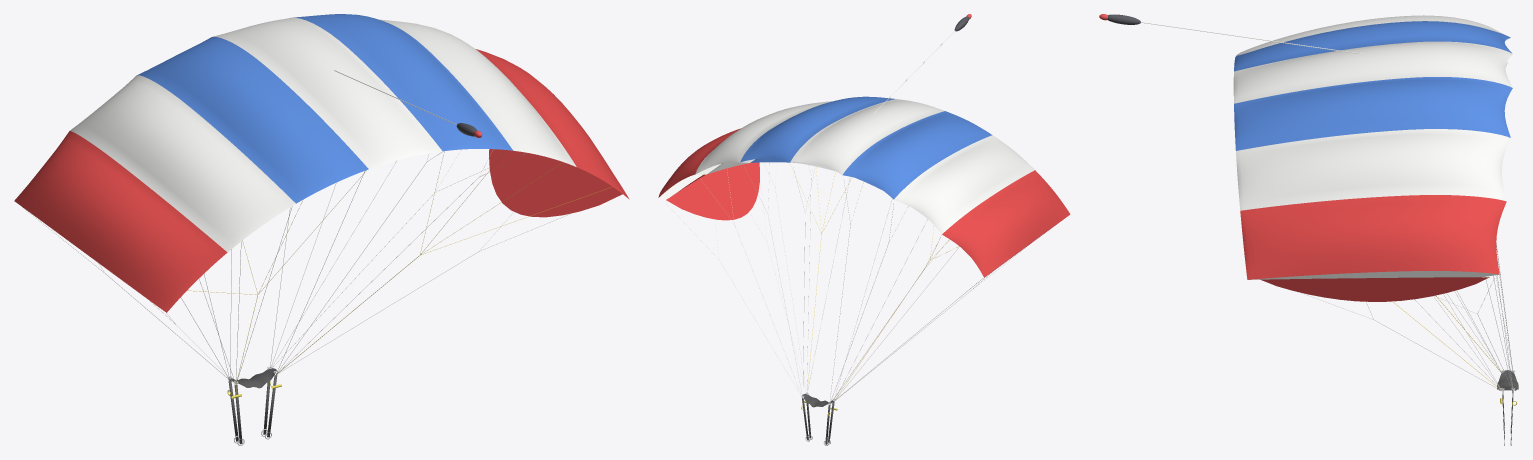
The model's file is PD_Spectre_150.glb.
The picture shows the model from 3 angles, left to right: view 1: azimuth 30°, elevation 25°; view 2: azimuth 150°, elevation 25°; view 3: azimuth 270°, elevation 25°; orthographic projection. The views are drawn at different scales.
Parts seen in each view (by area): view 1: TopSkin, Stabilizers, Lines, SteeringLines, Risers; view 2: TopSkin, Stabilizers, Lines, BottomSkin, Risers, Ribs, SteeringLines; view 3: TopSkin, Stabilizers, Lines, Ribs, PilotChute.
Part boxes in pixels (left/top/right/bottom): TopSkin: left=14, top=14, right=629, bottom=312; Stabilizers: left=47, top=149, right=622, bottom=310; Lines: left=23, top=149, right=569, bottom=384; SteeringLines: left=188, top=150, right=611, bottom=394; Risers: left=227, top=368, right=281, bottom=445; TopSkin: left=658, top=96, right=1070, bottom=277; Stabilizers: left=666, top=162, right=1044, bottom=278; Lines: left=666, top=162, right=1029, bottom=404; BottomSkin: left=678, top=158, right=968, bottom=254; Risers: left=801, top=394, right=837, bottom=445; Ribs: left=659, top=158, right=799, bottom=197; SteeringLines: left=790, top=164, right=958, bottom=399; TopSkin: left=1233, top=15, right=1512, bottom=279; Stabilizers: left=1260, top=277, right=1489, bottom=301; Lines: left=1301, top=62, right=1512, bottom=390; Ribs: left=1248, top=38, right=1510, bottom=279; PilotChute: left=1099, top=14, right=1361, bottom=53.
Bounding box in the file's own units: 4.79 × 4.32 × 3.86.
